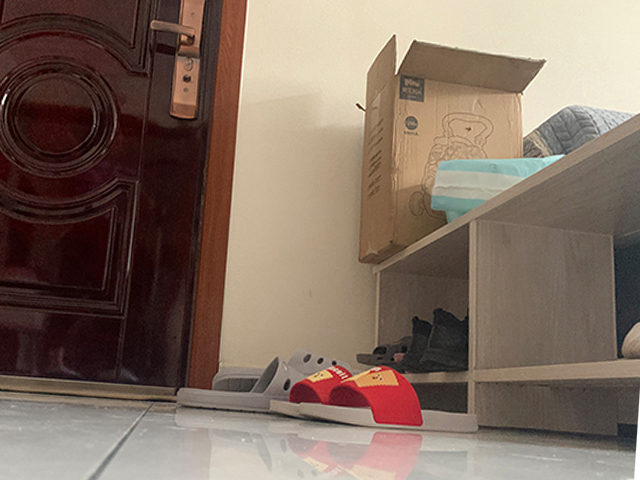carpet: (1, 383, 177, 404)
slippers: (297, 365, 481, 431), (176, 350, 301, 433)
